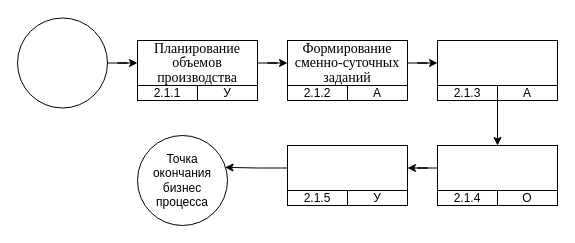
Some shapes in this 575 by 243 pixel diagram are drawn without their labels. The shapes that lost their labels are listed below. From the top down, each one's centre as x and y in pixels, then its label:
the point at 62,62: Точка начала бизнес процесса
the point at 497,63: Оперативный учет выполнения производственных заданий
the point at 347,167: Учет брака и отклонений
the point at 497,167: Контроль качества продукции
